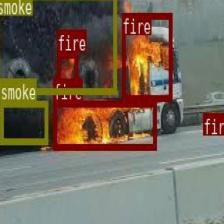fire: (53, 100, 156, 149), (121, 12, 172, 100), (56, 51, 77, 86), (203, 112, 220, 125)
smoke: (0, 0, 116, 93), (0, 100, 48, 143)
